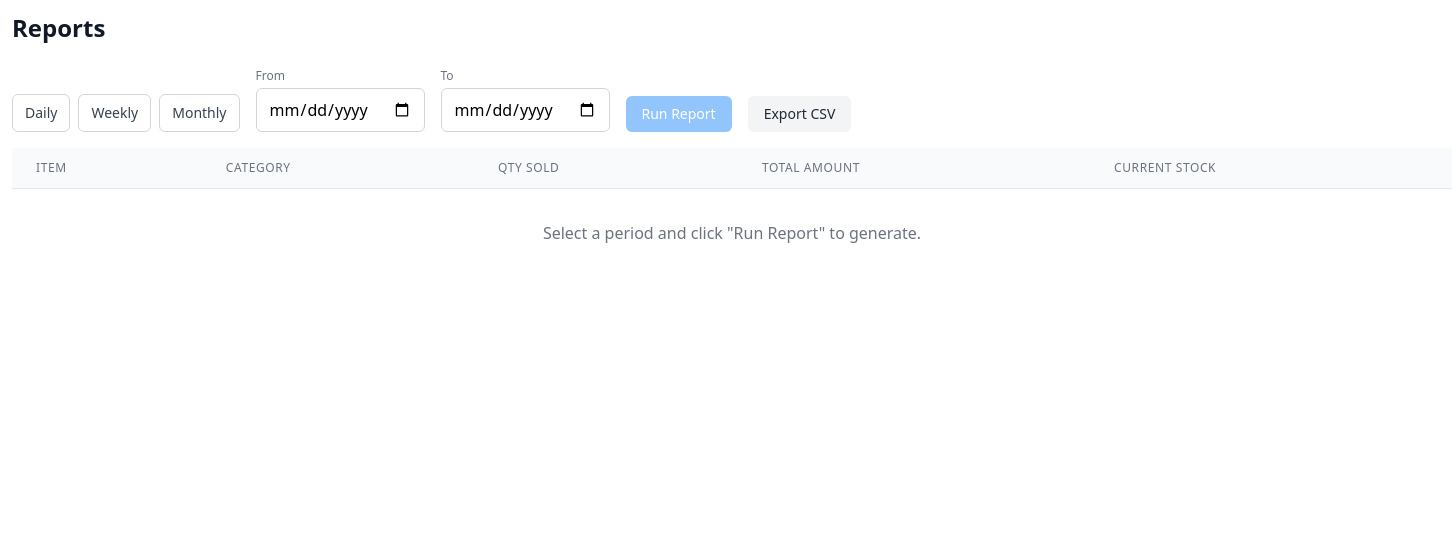
Test case: ReportsPage › shows stale data banner when dates change after running report
Click the button with test id "period-daily". click: x=41, y=113
box: [12,94,70,132]
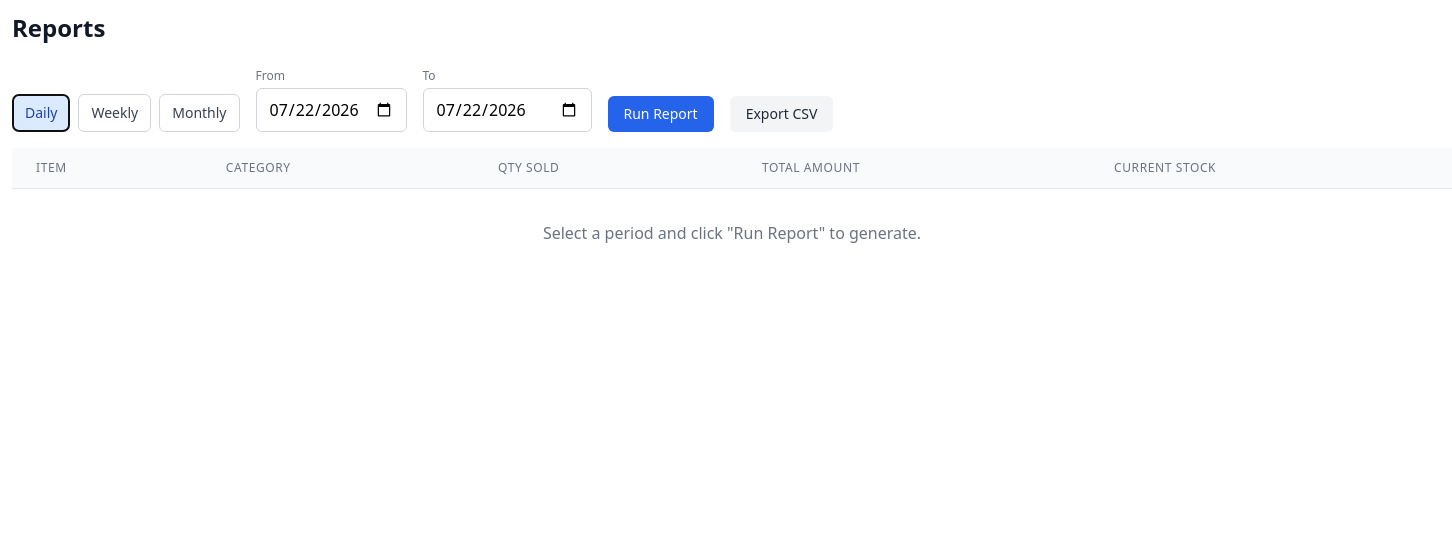
Click the button with test id "run-report-btn". click: x=661, y=114
box: [608,96,714,132]
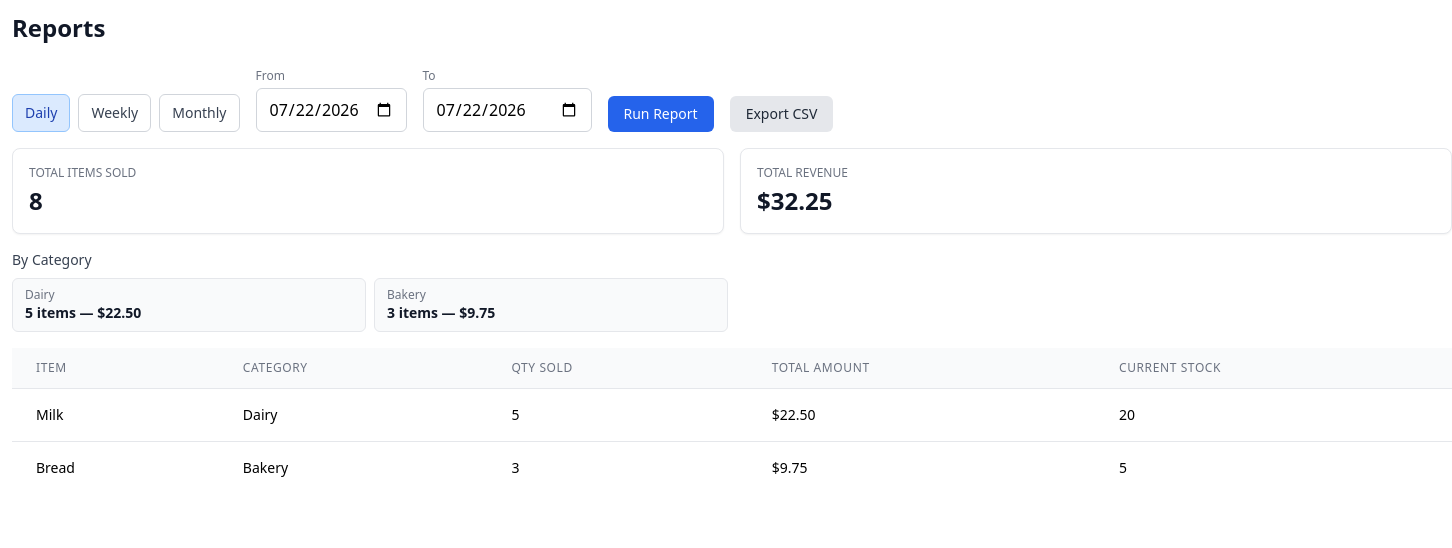
Result: the text "Milk" is shown at [12,388,219,442]
Click the button with test id "period-weekly". click: x=115, y=113
box: [78,94,151,132]
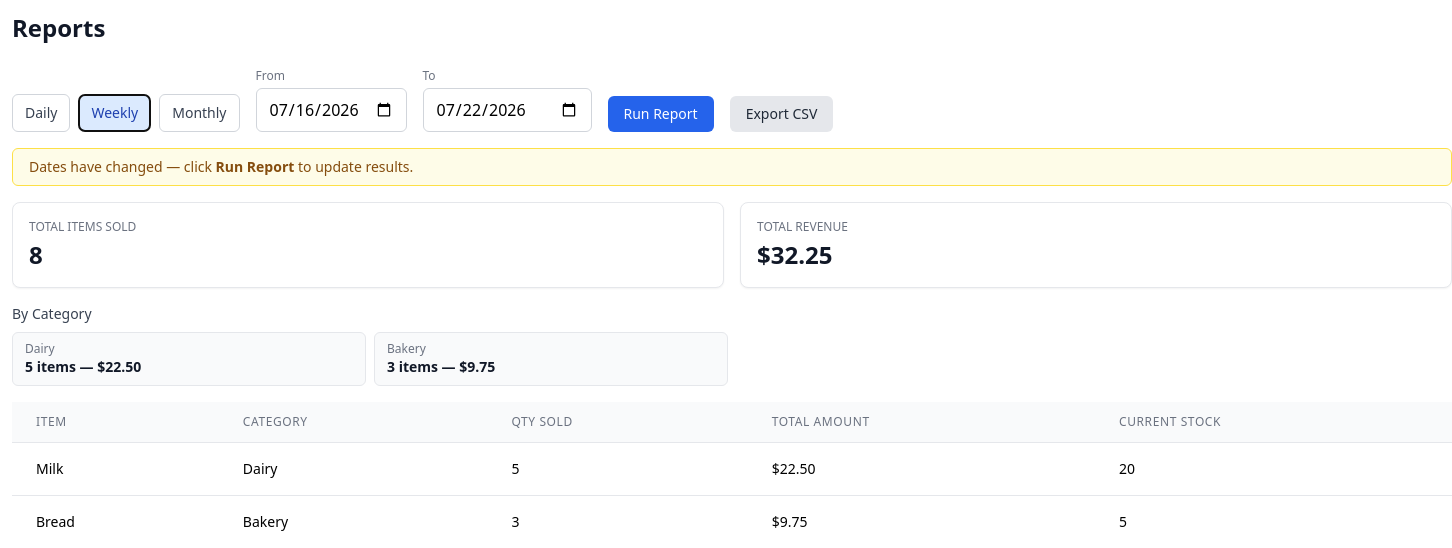
Result: the element with test id "stale-banner" is shown at [12,148,1451,186]
